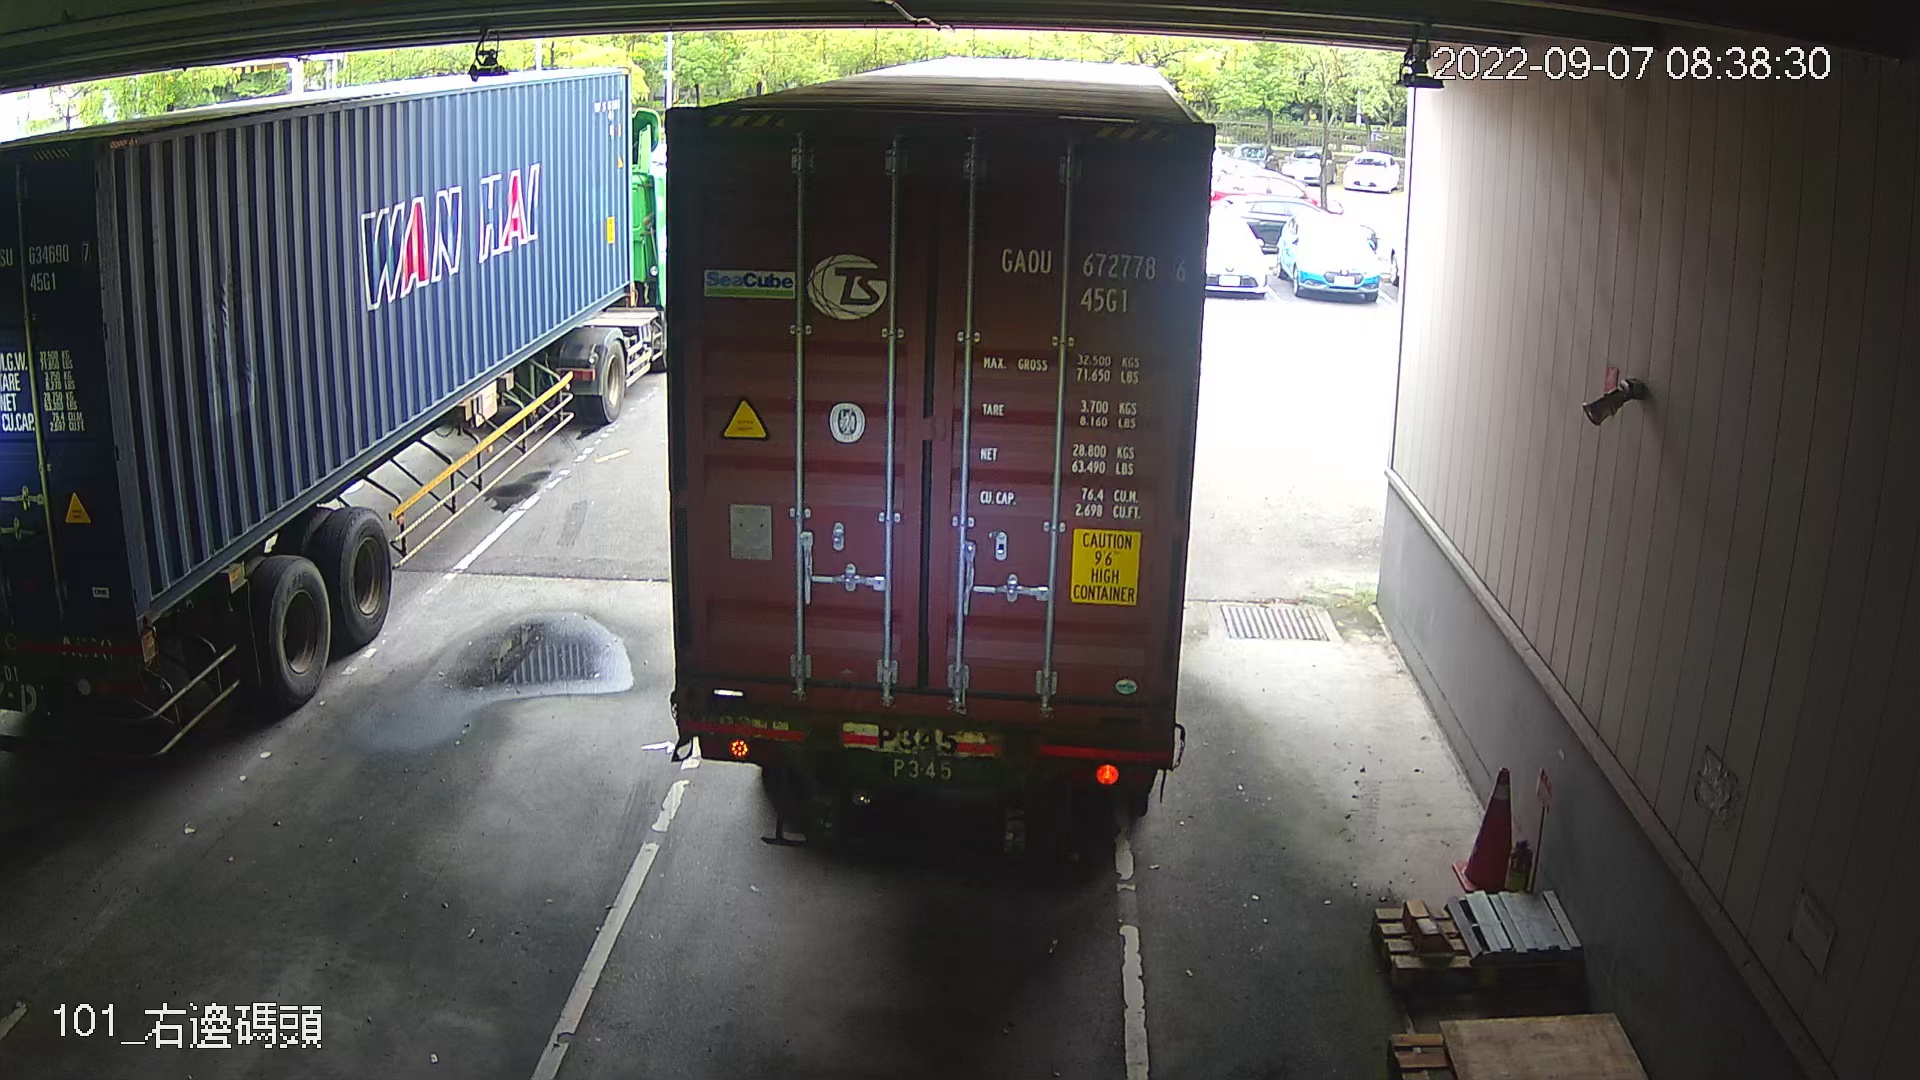container: (989, 236, 1197, 323)
